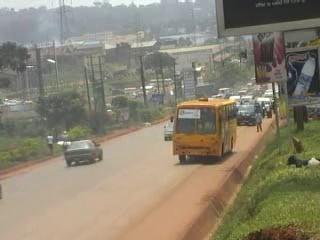Car: (62, 137, 104, 170), (159, 115, 176, 144)
